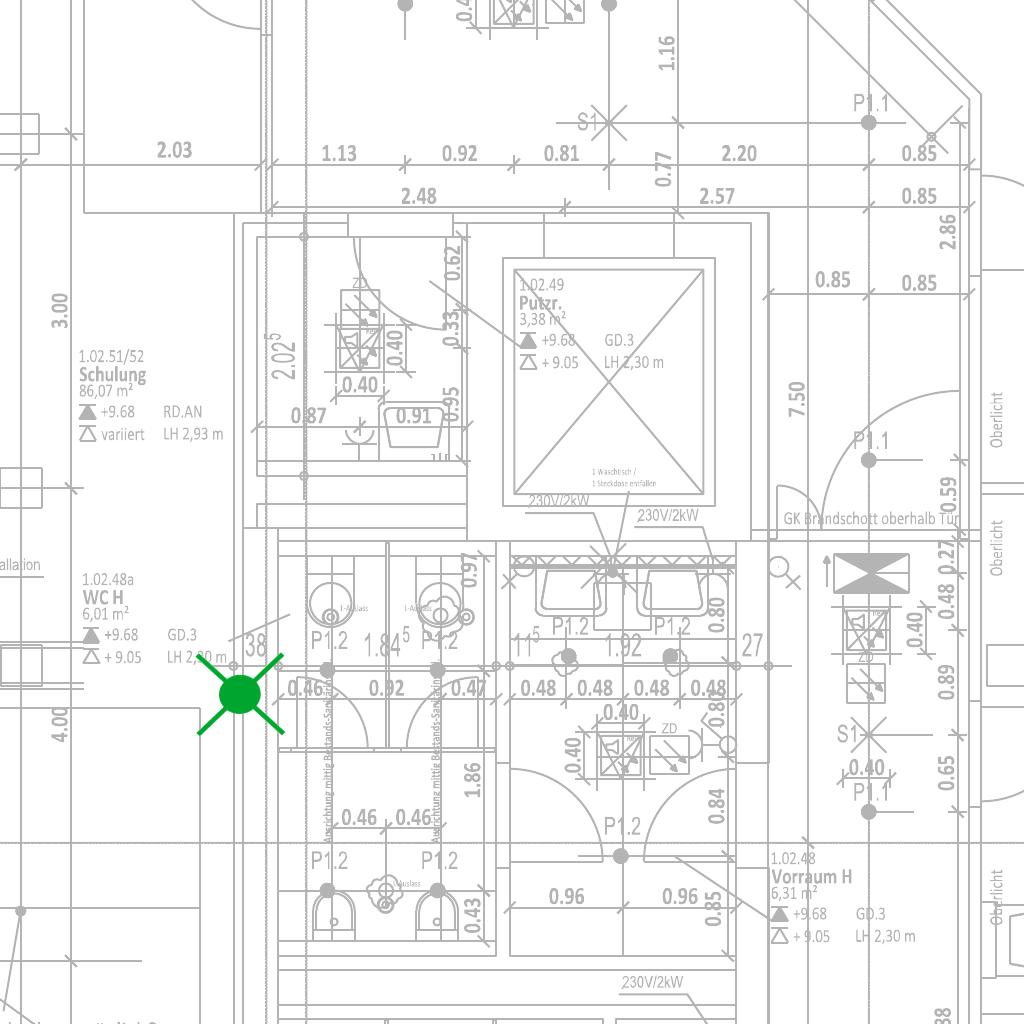Notlichtbaustein_in_Allgemeinbeleuchtug_engebaut_Einbau_(1UG_und_2UG_Aufbauvaria: (190, 644, 290, 747)
